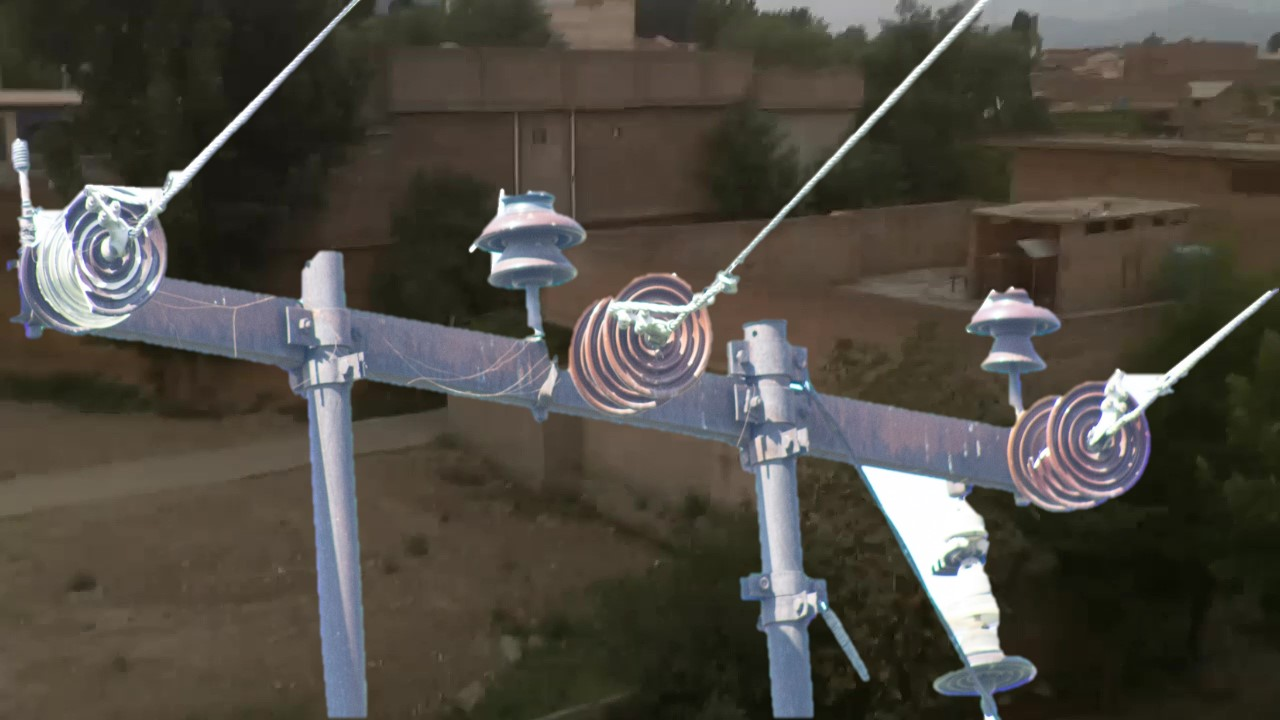defect_disc: (51, 179, 174, 319)
insulator_disc: (596, 261, 719, 401), (1045, 372, 1161, 503)
